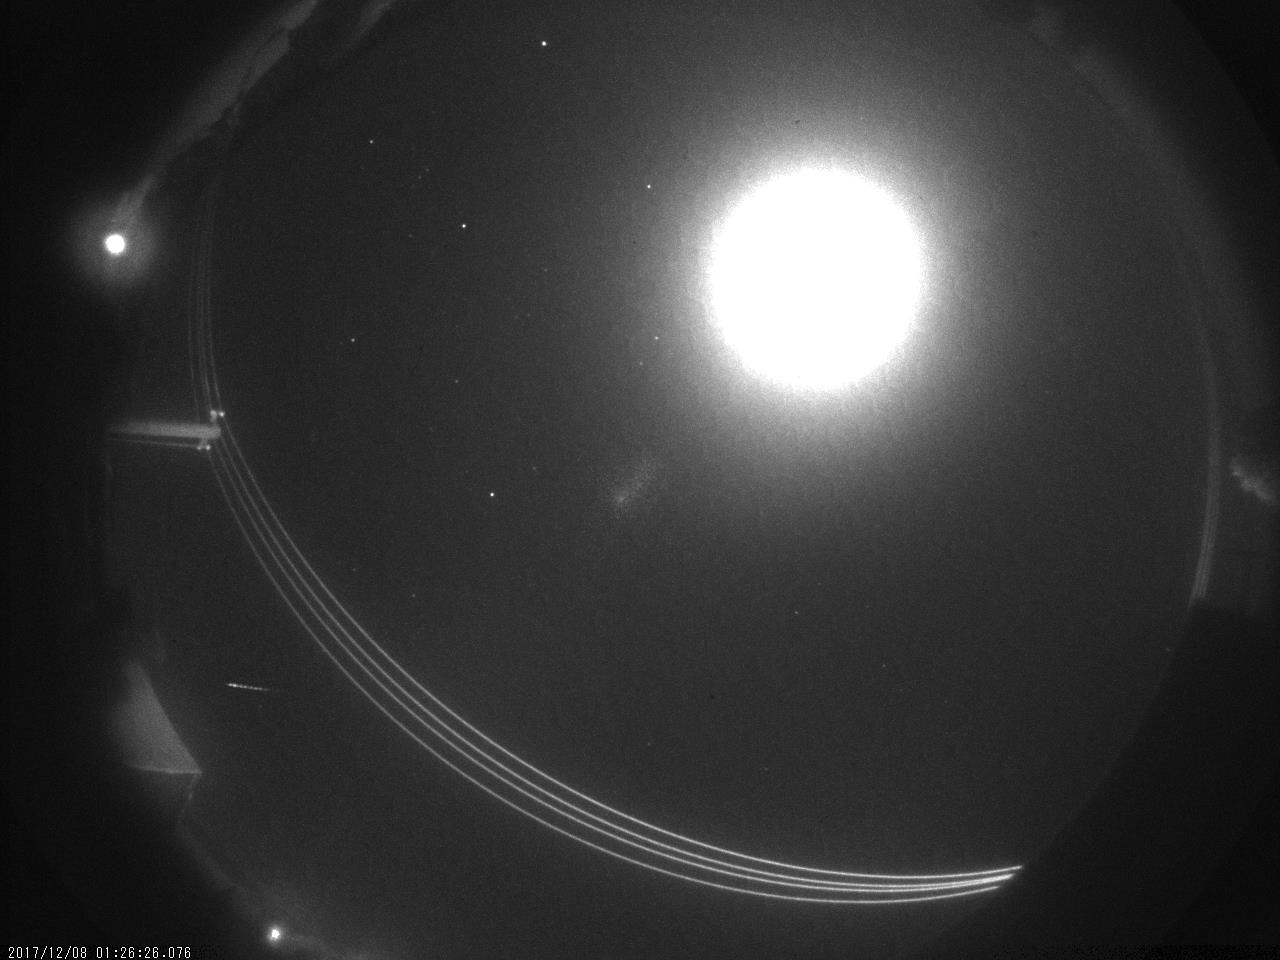meteor: (211, 669, 292, 706)
